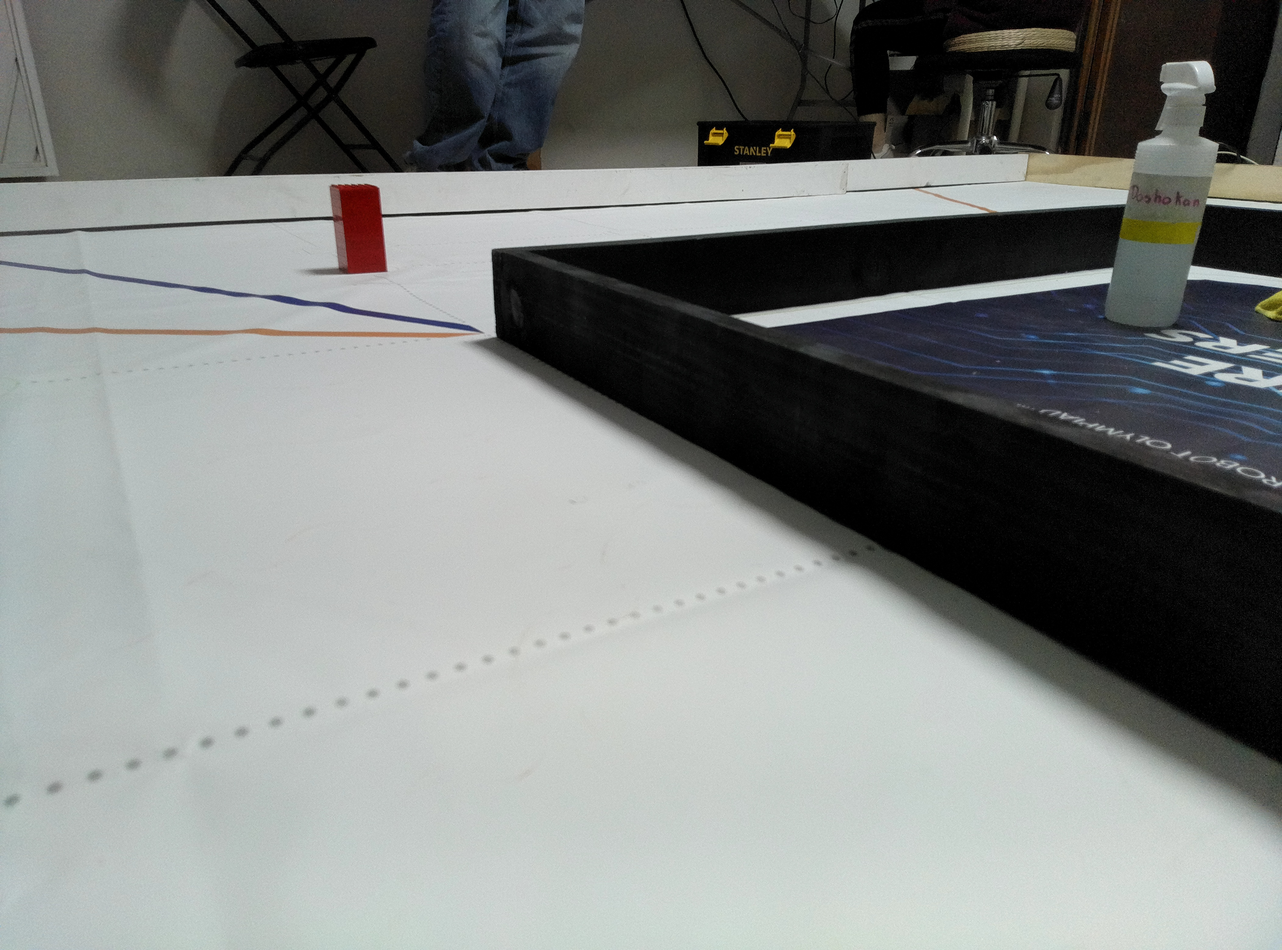redbox: (328, 183, 390, 276)
